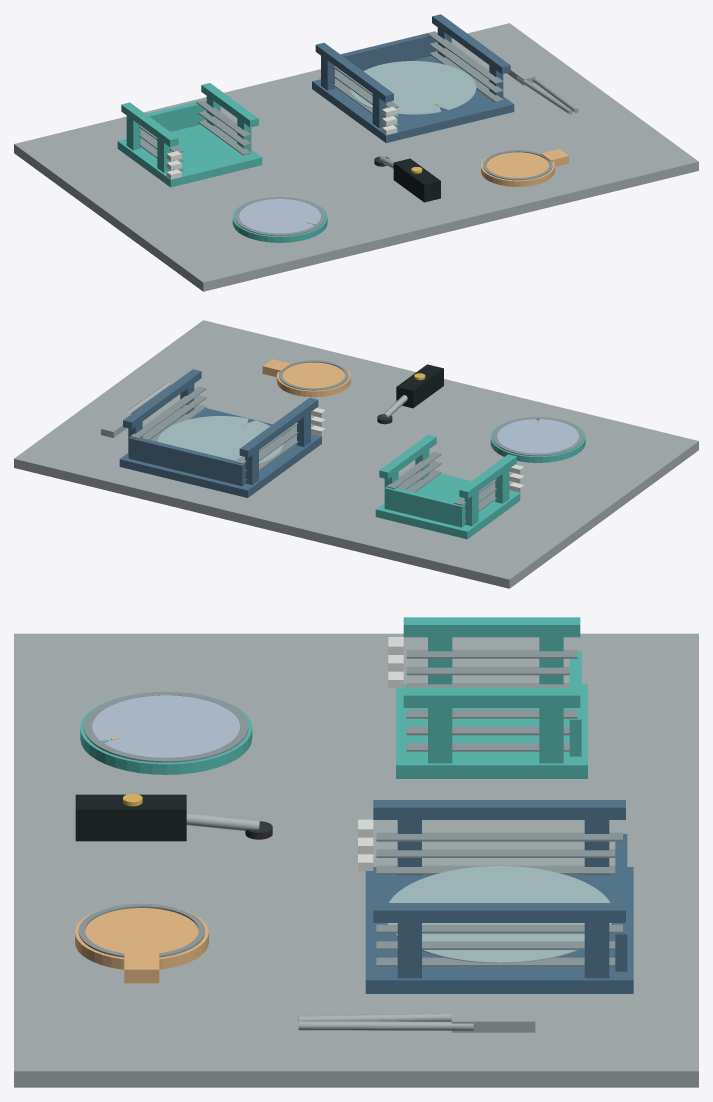
The model's file is handling-station.glb.
The picture shows the model from 3 angles, top to bottom: view 1: azimuth 30°, elevation 25°; view 2: azimuth 150°, elevation 25°; view 3: azimuth 270°, elevation 25°; orthographic projection. The views are drawn at different scales.
Parts seen in each view (by area): view 1: Bench_680x450, W150_01, Cassette_150_base, Cassette_100_base, W100_01, Carrier_75_base, Cassette_150_backstop, Wand_grip, Cassette_150_upper_rail_1, Cassette_150_upper_rail_-1, Cassette_100_backstop, Cassette_100_upper_rail_-1 (+8 smaller); view 2: Bench_680x450, W150_01, Cassette_150_base, Cassette_150_backstop, Cassette_100_base, W100_01, Cassette_100_backstop, Carrier_75_base, Wand_grip, Cassette_150_upper_rail_-1, Cassette_150_upper_rail_1, Cassette_100_upper_rail_1 (+8 smaller); view 3: Bench_680x450, Cassette_150_base, W150_01, Cassette_100_base, W100_01, Carrier_75_base, Wand_grip, Cassette_150_upper_rail_-1, Cassette_150_upper_rail_1, Cassette_100_upper_rail_-1, Cassette_100_upper_rail_1, Staging_100_base (+29 smaller).
Boxes of the visible parts, <box> form: Bench_680x450: <box>14,23,698,291</box>; W150_01: <box>350,61,476,114</box>; Cassette_150_base: <box>312,56,514,142</box>; Cassette_100_base: <box>117,124,262,187</box>; W100_01: <box>239,199,320,233</box>; Carrier_75_base: <box>481,151,554,186</box>; Cassette_150_backstop: <box>335,32,437,78</box>; Wand_grip: <box>393,158,440,202</box>; Cassette_150_upper_rail_1: <box>432,14,510,74</box>; Cassette_150_upper_rail_-1: <box>315,42,393,102</box>; Cassette_100_backstop: <box>141,102,206,138</box>; Cassette_100_upper_rail_-1: <box>121,102,178,146</box>; Bench_680x450: <box>14,320,698,588</box>; W150_01: <box>157,416,283,464</box>; Cassette_150_base: <box>119,405,321,497</box>; Cassette_150_backstop: <box>128,437,245,486</box>; Cassette_100_base: <box>375,471,520,539</box>; W100_01: <box>497,419,578,453</box>; Cassette_100_backstop: <box>384,487,465,527</box>; Carrier_75_base: <box>276,361,350,397</box>; Wand_grip: <box>396,364,443,408</box>; Cassette_150_upper_rail_-1: <box>239,397,318,457</box>; Cassette_150_upper_rail_1: <box>123,369,201,429</box>; Cassette_100_upper_rail_1: <box>379,435,436,479</box>; Bench_680x450: <box>14,633,698,1087</box>; Cassette_150_base: <box>365,867,633,993</box>; W150_01: <box>387,866,611,963</box>; Cassette_100_base: <box>396,684,587,778</box>; W100_01: <box>92,695,239,757</box>; Carrier_75_base: <box>75,905,208,969</box>; Wand_grip: <box>75,794,186,841</box>; Cassette_150_upper_rail_-1: <box>373,800,625,819</box>; Cassette_150_upper_rail_1: <box>373,903,625,922</box>; Cassette_100_upper_rail_-1: <box>403,617,580,637</box>; Cassette_100_upper_rail_1: <box>403,688,580,707</box>; Staging_100_base: <box>80,692,252,774</box>.
Bounding box in the file's own units: 0.68 × 0.0795 × 0.45.
